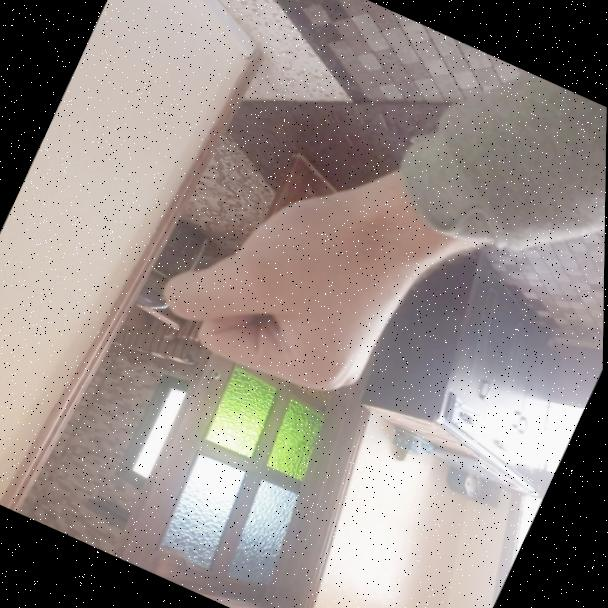five: (147, 118, 461, 424)
